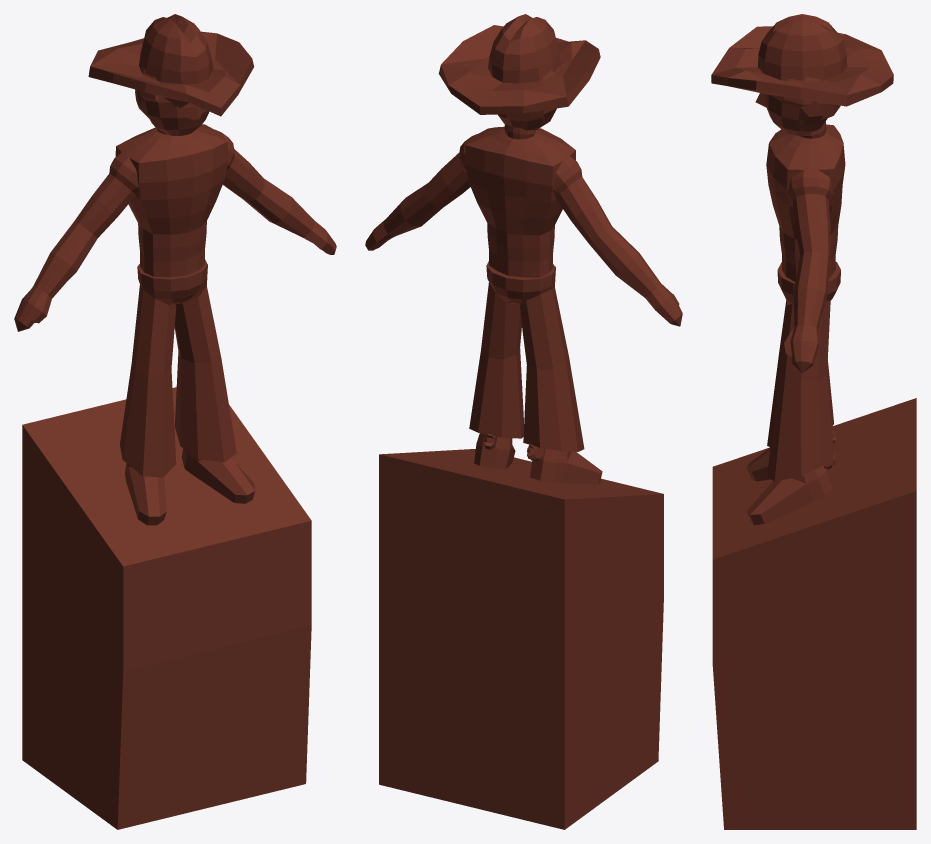
The model's file is cargasdaguabronze.fbx.
The picture shows the model from 3 angles, left to right: view 1: azimuth 30°, elevation 25°; view 2: azimuth 150°, elevation 25°; view 3: azimuth 270°, elevation 25°; orthographic projection. The views are drawn at different scales.
Parts seen in each view (by area): view 1: Cube.001; view 2: Cube.001; view 3: Cube.001.
Part boxes in pixels (x1,y1,x2,y2): Cube.001: [14, 14, 336, 829]; Cube.001: [365, 14, 682, 829]; Cube.001: [711, 14, 916, 829].
Size of the model in its own units: 136 by 312 by 75.57.
